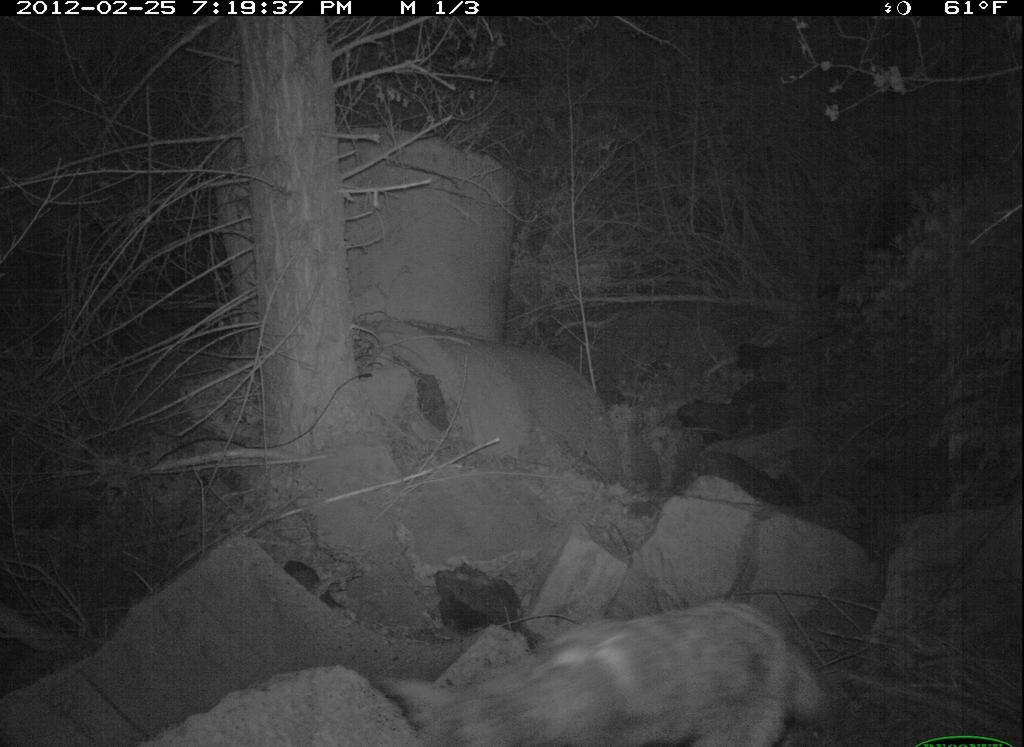coyote: (374, 596, 826, 747)
